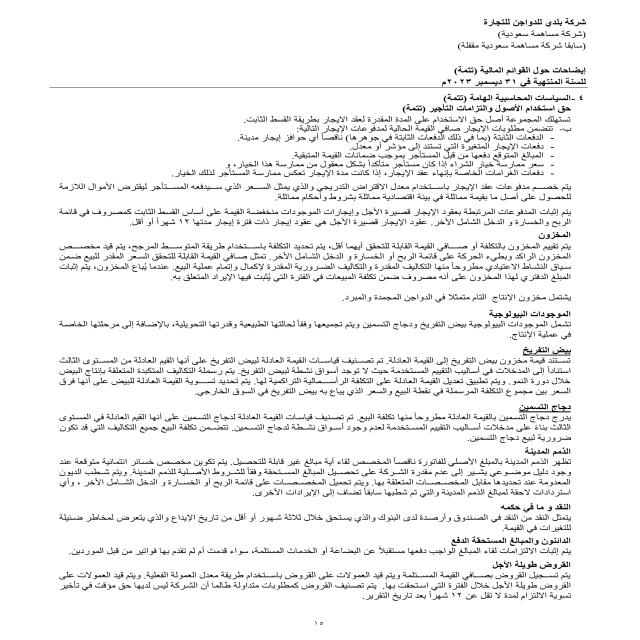notes: (447, 64, 591, 77)
text: (17, 94, 592, 606)
